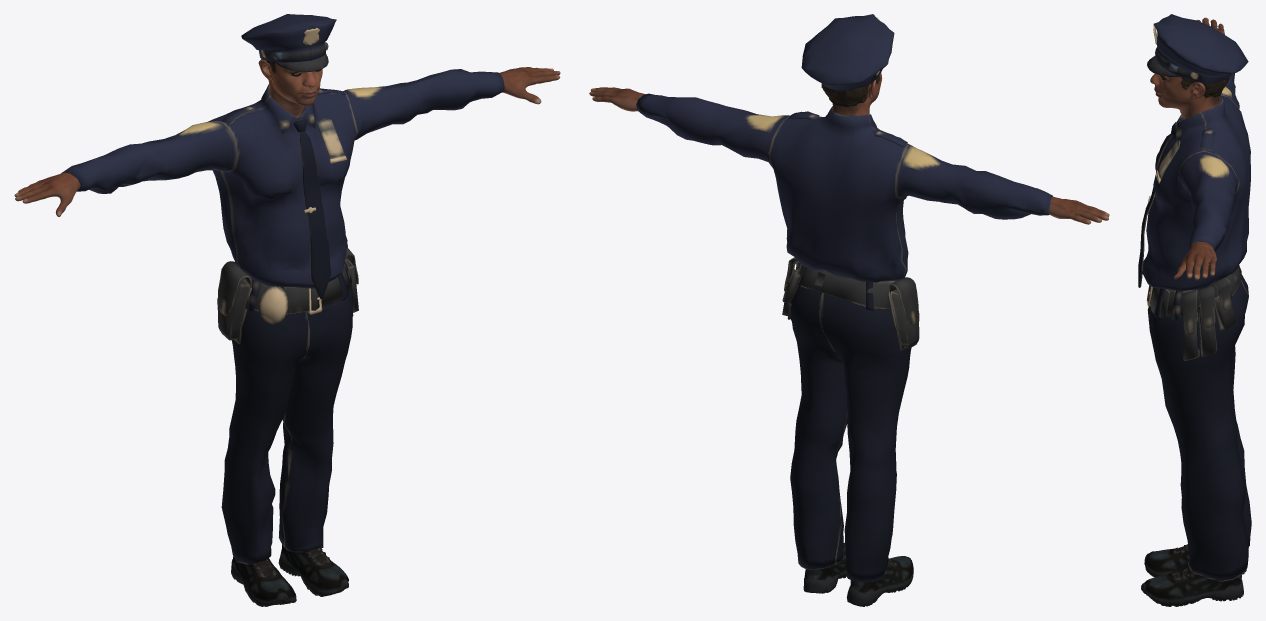
3 renders of one model, left to right at view 1: azimuth 30°, elevation 25°; view 2: azimuth 150°, elevation 25°; view 3: azimuth 270°, elevation 25°, orthographic. The views are drawn at different scales.
Visible parts, largest first — view 1: Tops, Bottoms, Body, Shoes, Hats; view 2: Bottoms, Tops, Hats, Shoes, Body, Hair; view 3: Bottoms, Tops, Hats, Shoes, Body, Hair.
Boxes of the visible parts, bbox=[...] form: Tops: bbox=[61, 69, 504, 298]; Bottoms: bbox=[217, 244, 358, 564]; Body: bbox=[14, 59, 560, 279]; Shoes: bbox=[231, 544, 348, 606]; Hats: bbox=[241, 14, 336, 72]; Bottoms: bbox=[782, 257, 919, 582]; Tops: bbox=[636, 93, 1052, 282]; Hats: bbox=[801, 14, 894, 90]; Shoes: bbox=[803, 542, 913, 606]; Body: bbox=[589, 72, 1109, 280]; Hair: bbox=[821, 75, 880, 106]; Bottoms: bbox=[1146, 265, 1251, 581]; Tops: bbox=[1138, 73, 1250, 290]; Hats: bbox=[1147, 14, 1248, 84]; Shoes: bbox=[1141, 544, 1246, 606]; Body: bbox=[1150, 17, 1224, 290]; Hair: bbox=[1180, 77, 1229, 97].
Size of the model in its own units: 176 by 179 by 32.62.
1 material, 1 textured.
